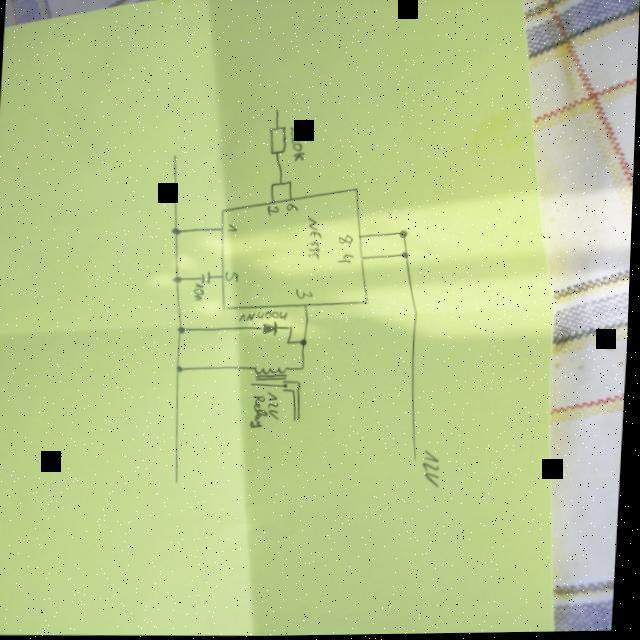capacitor: (202, 269, 215, 284)
diode: (263, 320, 282, 336)
junction: (400, 228, 412, 238), (179, 325, 189, 335), (173, 226, 184, 235), (402, 251, 414, 259), (174, 274, 185, 282), (302, 338, 311, 346), (179, 364, 187, 372), (288, 338, 296, 345), (290, 324, 297, 330), (302, 364, 309, 370), (299, 379, 306, 385), (290, 178, 296, 185), (280, 180, 286, 186), (293, 388, 299, 393), (271, 182, 278, 186)
resistor: (269, 125, 290, 155)
terminal: (414, 455, 423, 464), (172, 151, 181, 159), (177, 479, 184, 485), (252, 381, 258, 386), (274, 108, 281, 112), (300, 416, 304, 420), (297, 418, 301, 422)
text: (307, 215, 326, 259), (425, 450, 446, 488), (289, 125, 309, 161), (252, 394, 273, 428), (240, 309, 291, 322), (270, 391, 285, 420), (297, 287, 317, 299), (195, 282, 208, 300), (339, 253, 358, 263), (340, 233, 357, 244), (228, 270, 242, 282), (268, 204, 282, 215), (287, 202, 302, 211), (228, 223, 240, 231)
